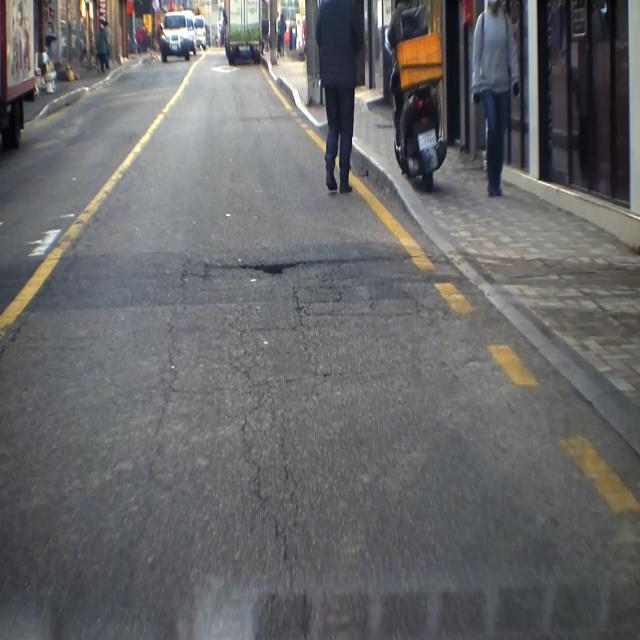Pothole: (194, 257, 391, 283)
